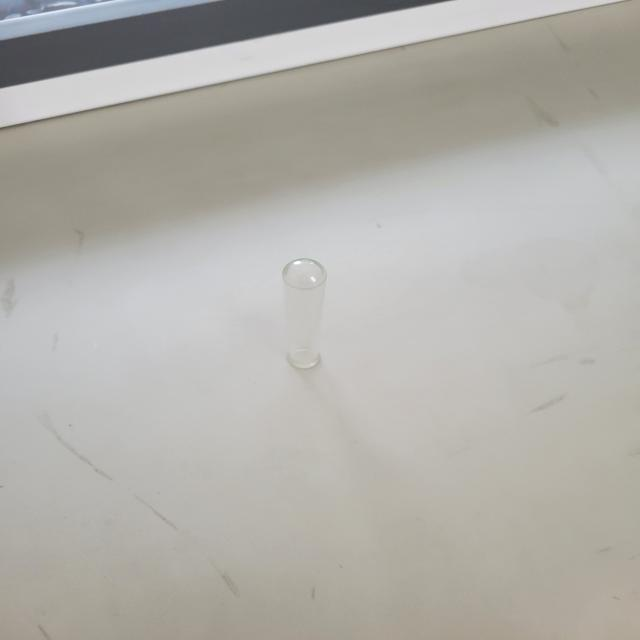Test_Tube: (263, 243, 346, 385)
